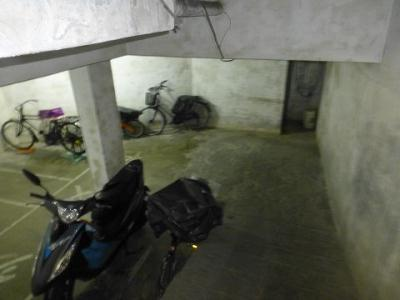bucket: (302, 108, 317, 131)
plastic_bag: (148, 178, 220, 242)
